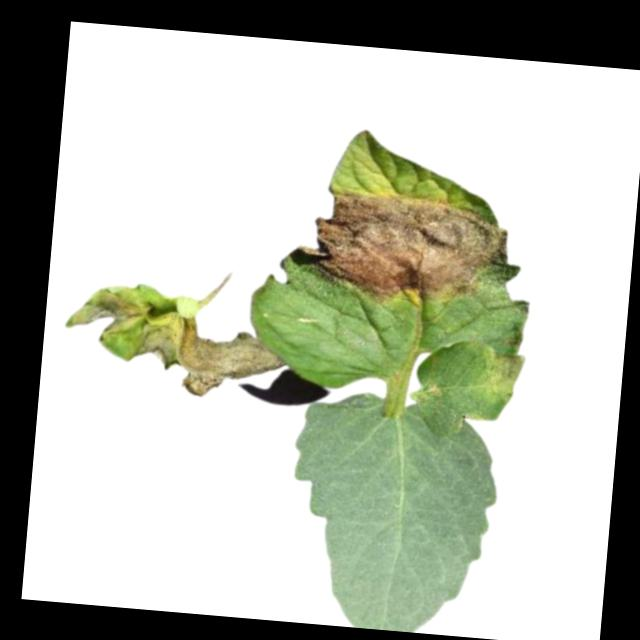Late_blight: (286, 182, 511, 313), (62, 277, 290, 403), (471, 342, 526, 406)
